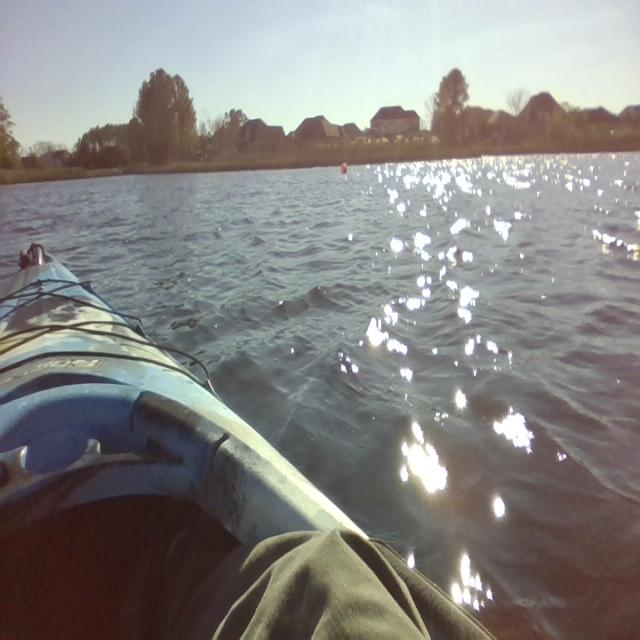Buoy: (337, 160, 349, 181)
